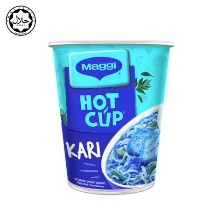paper_cup: (38, 33, 180, 199)
